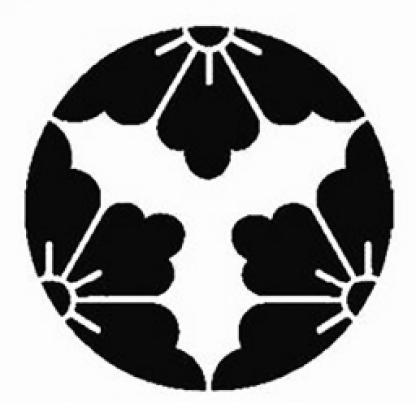kamon: (23, 25, 396, 392)
